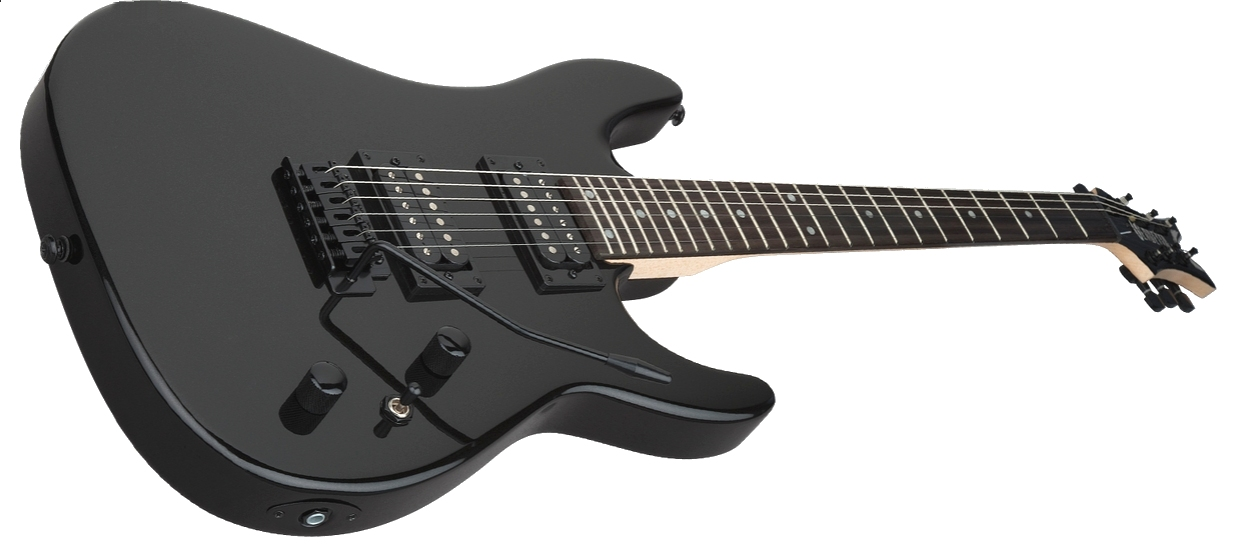ElectricGuitar: (15, 24, 1219, 501)
